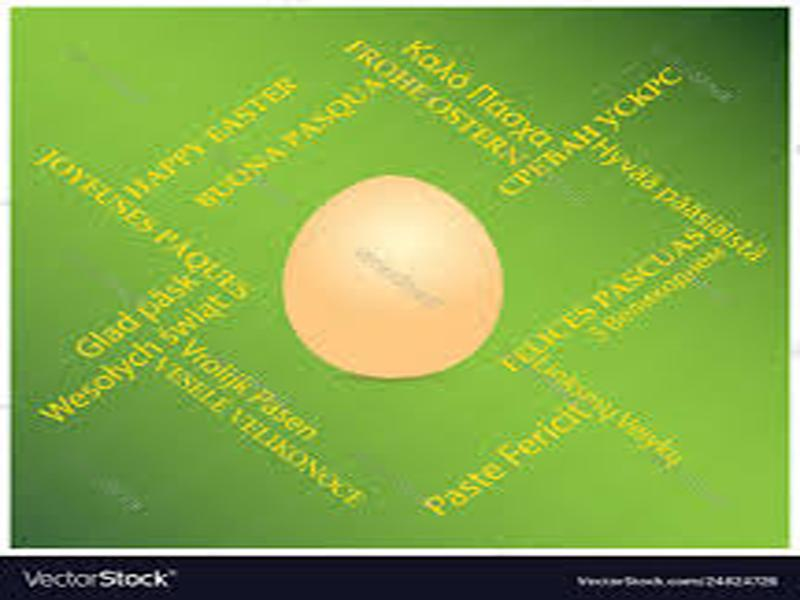Eggs: (285, 180, 504, 376)
